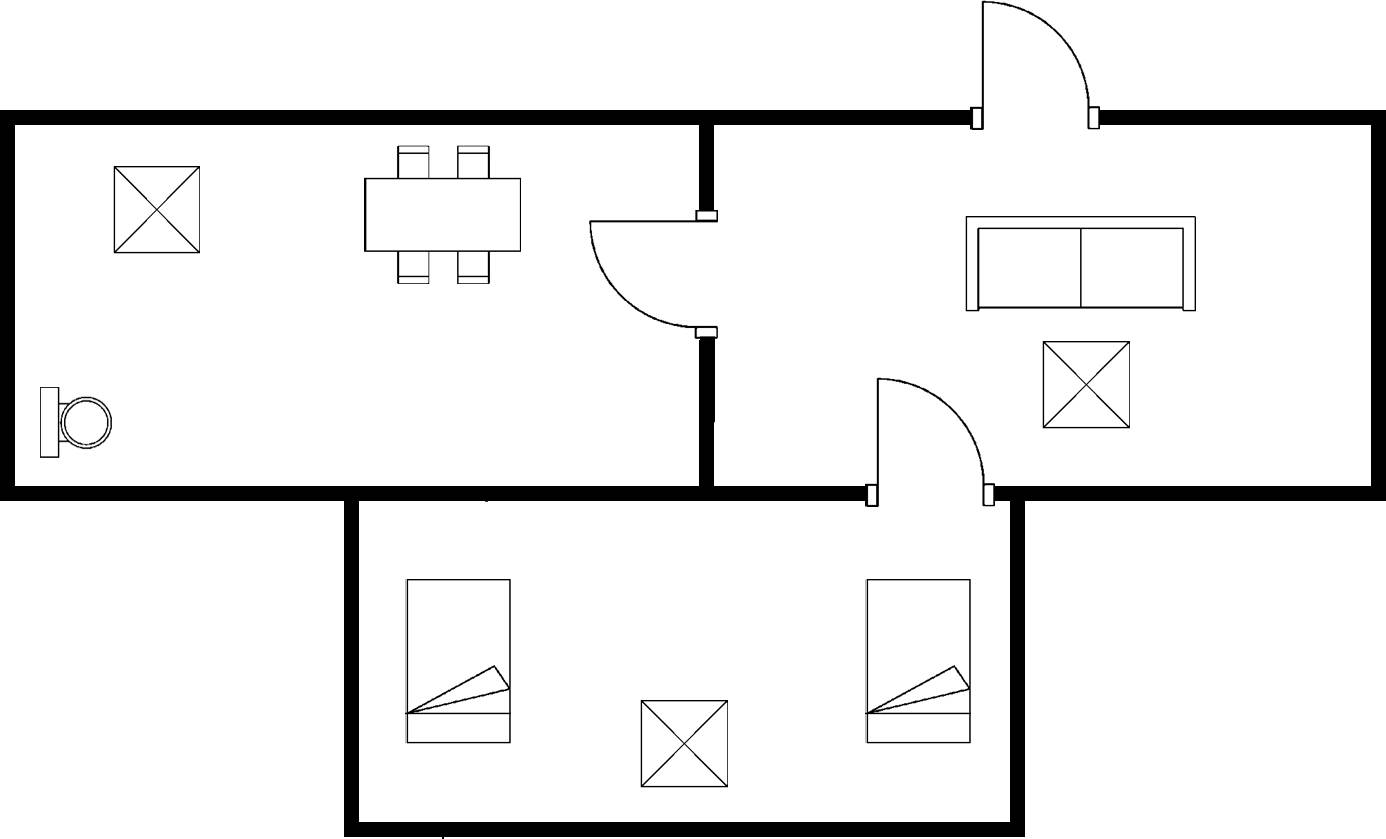bed: (859, 572, 977, 749), (399, 573, 516, 748)
coffee_table: (1036, 335, 1135, 438), (106, 160, 208, 258), (635, 693, 734, 793)
dining_table: (358, 139, 529, 291)
large_sink: (36, 381, 118, 464)
large_sofa: (959, 211, 1204, 316)
